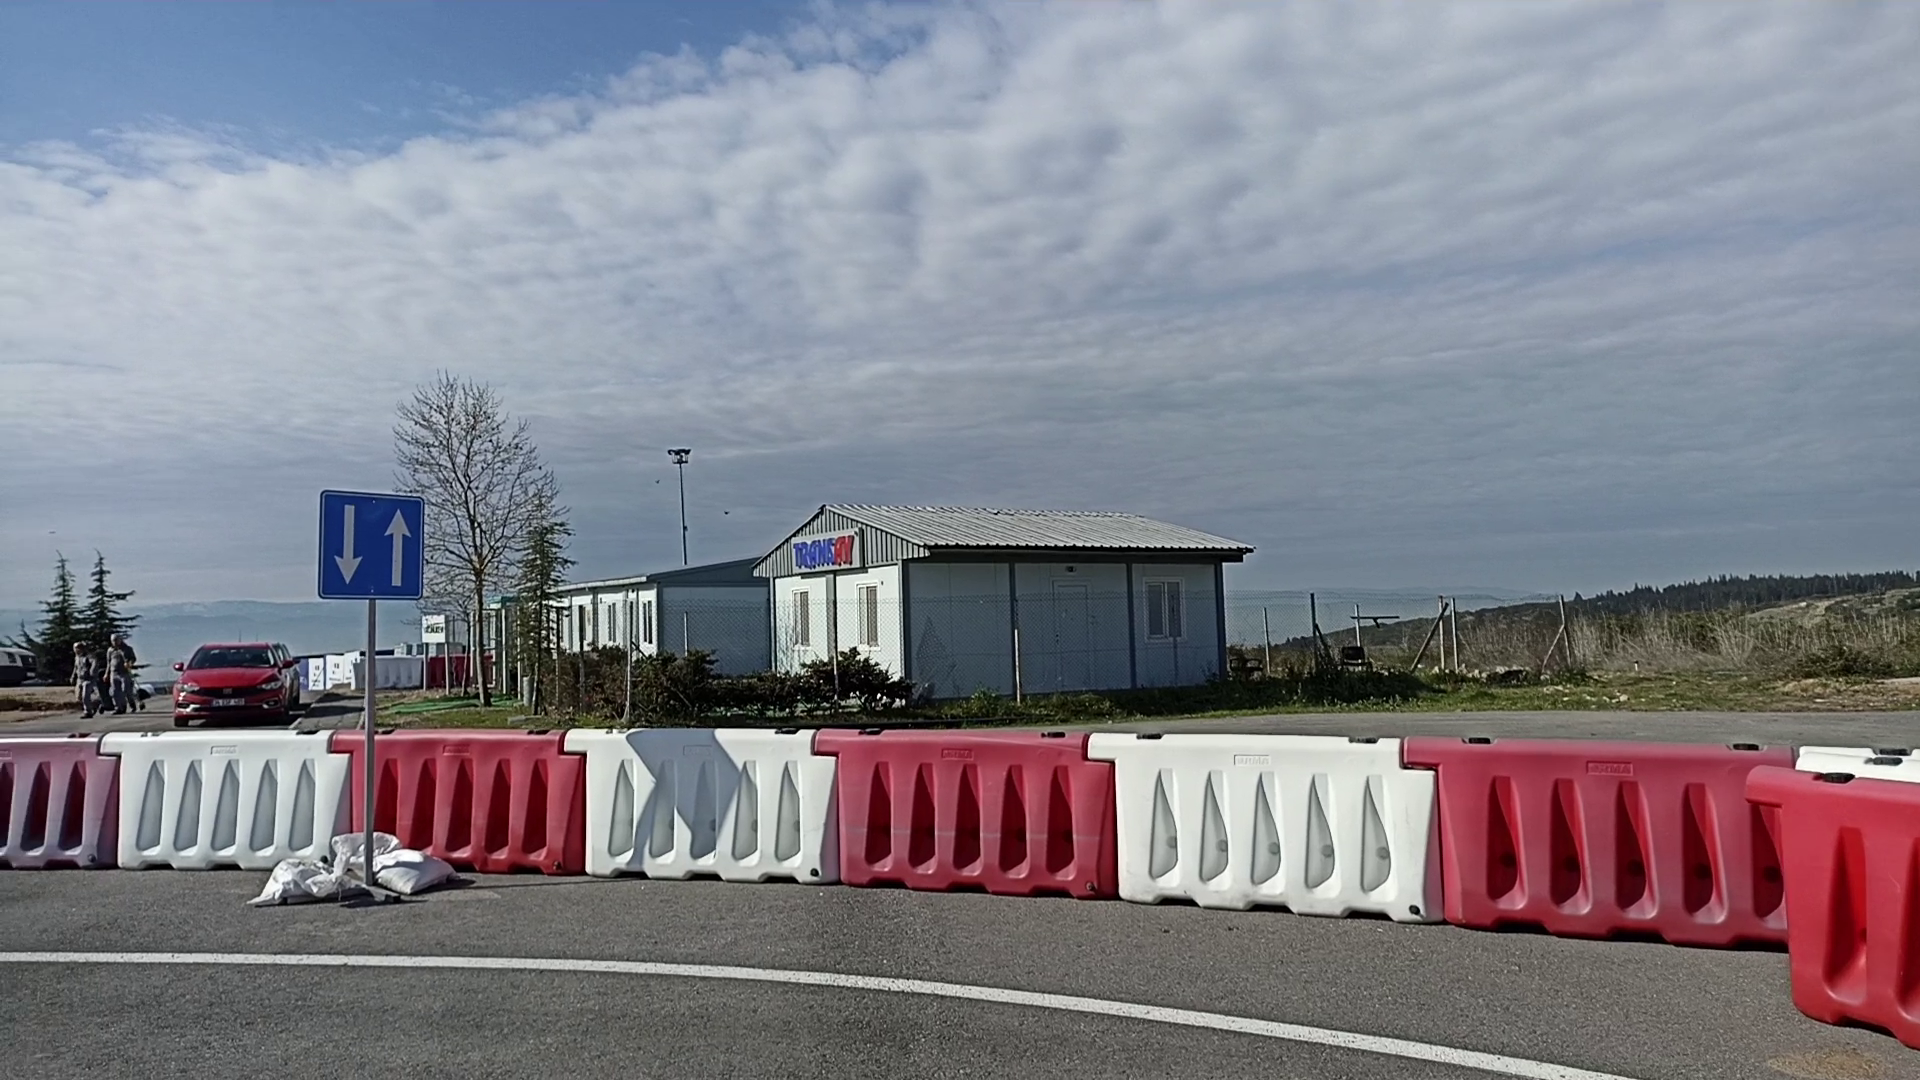oneway: (315, 488, 426, 604)
